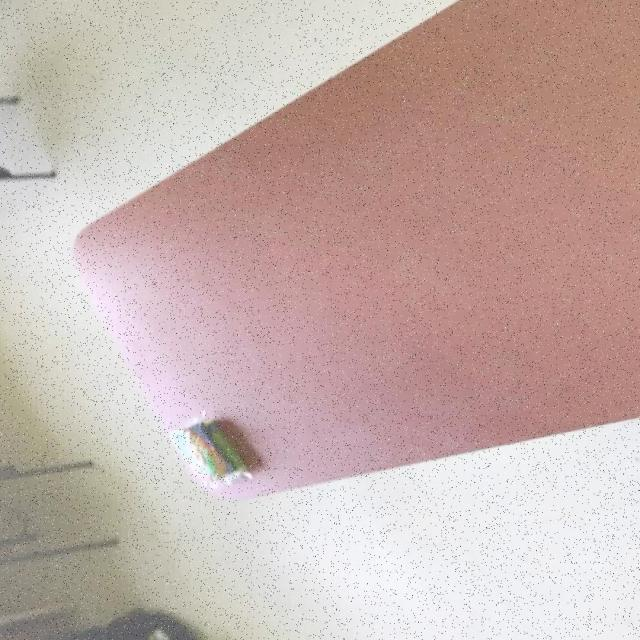Sponge: (171, 416, 256, 489)
